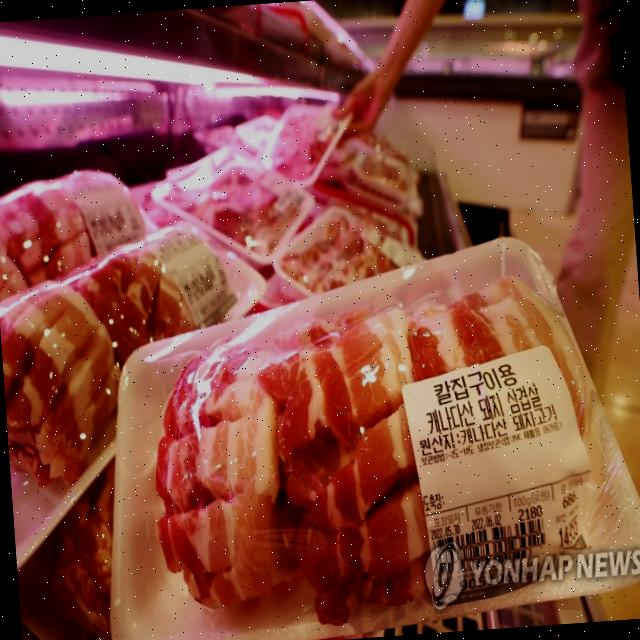meat: (102, 306, 608, 627), (0, 135, 425, 330)
